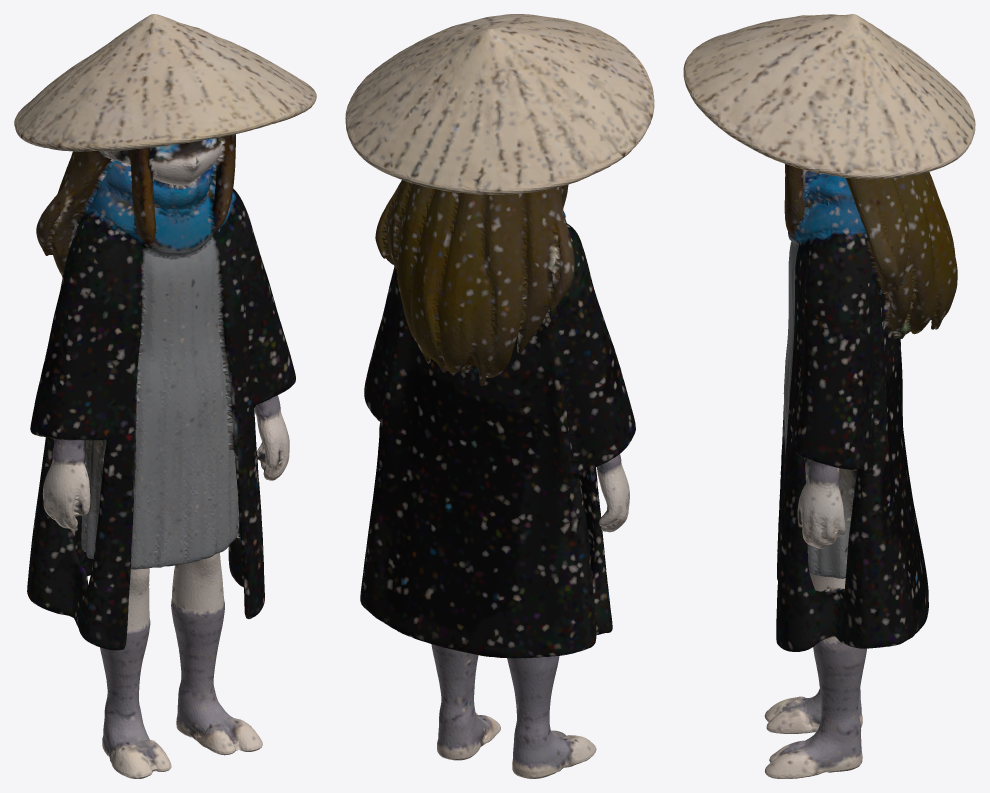
Rendered from figurine_ai_lifelike.glb.
3 views of the same model, side by side, from view 1: azimuth 30°, elevation 25°; view 2: azimuth 150°, elevation 25°; view 3: azimuth 270°, elevation 25° (orthographic). The views are drawn at different scales.
Parts seen in each view (by area): view 1: world; view 2: world; view 3: world.
Boxes of the visible parts, x1,y1,x2,y2 form: world: (14, 14, 316, 778); world: (345, 14, 654, 778); world: (683, 14, 975, 778).
Size of the model in its own units: 0.7746 by 2 by 0.7234.
